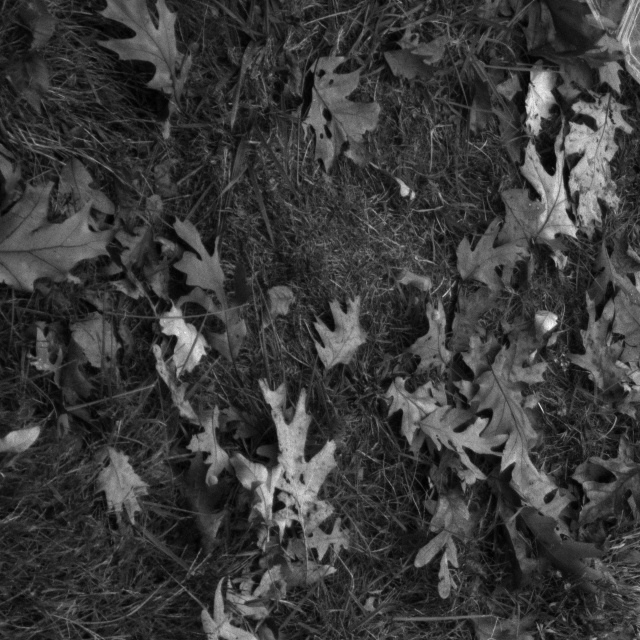container: (518, 0, 640, 152)
